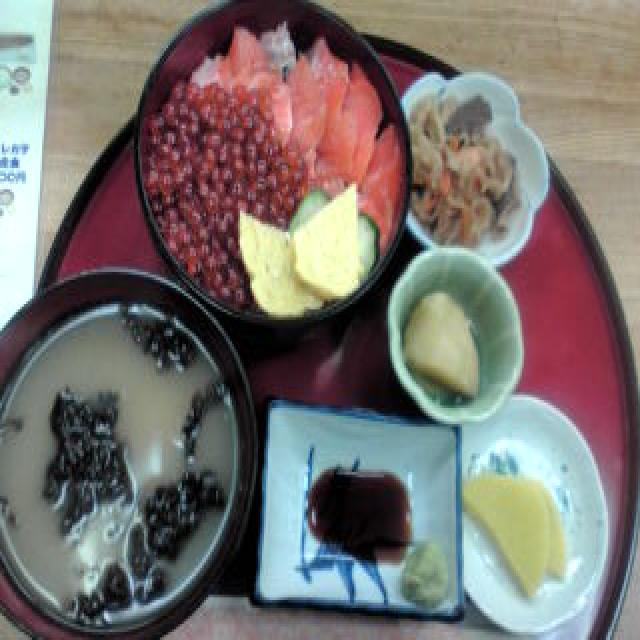刺身生食: (124, 0, 406, 333)
汤锅炖物: (0, 278, 248, 638)
